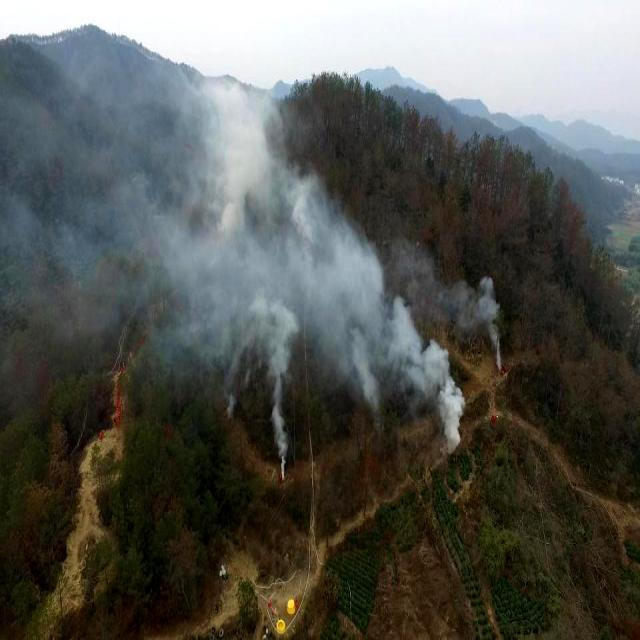Smoke: (0, 49, 322, 447), (332, 214, 457, 446), (472, 268, 512, 368)
